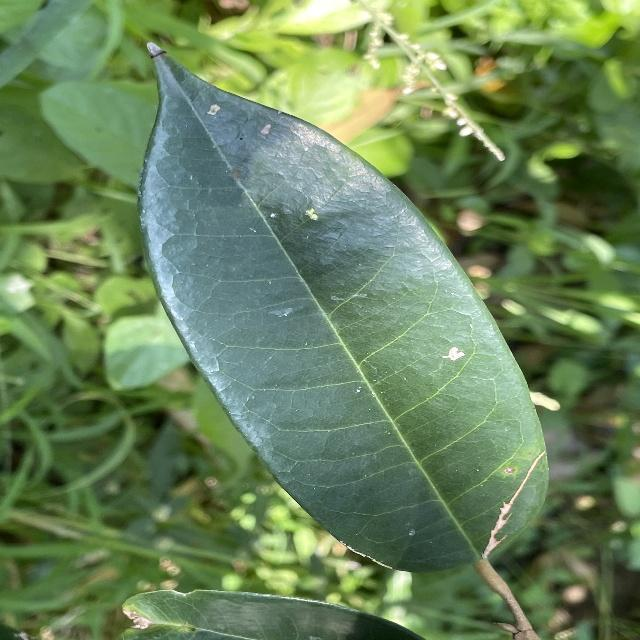No Disease: (131, 29, 558, 583)
